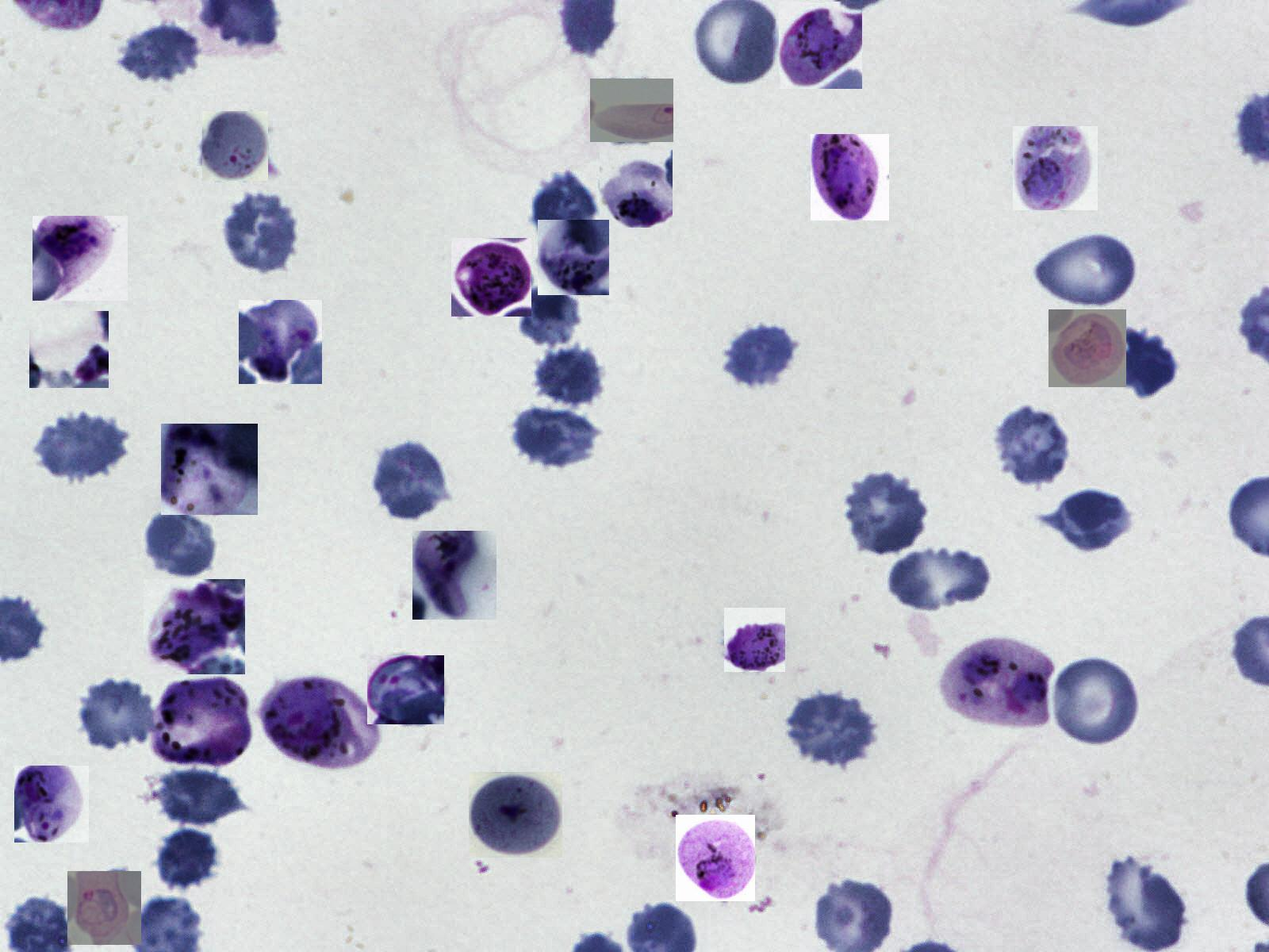Infected: (258, 676, 380, 770), (944, 634, 1054, 728), (144, 579, 245, 674), (151, 674, 254, 766), (161, 424, 258, 515), (33, 216, 128, 301), (469, 772, 562, 858), (412, 531, 496, 620), (779, 2, 862, 89), (1013, 126, 1098, 210), (239, 300, 322, 384), (677, 815, 756, 901), (811, 134, 889, 221), (451, 238, 531, 317), (29, 311, 109, 388), (1049, 310, 1126, 388), (14, 766, 89, 843), (600, 150, 673, 228), (67, 871, 141, 945), (538, 220, 609, 295), (367, 655, 444, 724), (590, 79, 673, 142), (202, 111, 268, 181), (724, 608, 785, 672)
Uninfected: (1032, 228, 1141, 310), (1049, 653, 1142, 749), (780, 688, 880, 769), (842, 470, 930, 556), (219, 188, 301, 277), (36, 406, 129, 482), (148, 764, 251, 830), (887, 547, 989, 611), (508, 401, 602, 470), (77, 673, 158, 753), (993, 406, 1072, 487), (372, 440, 450, 521), (528, 340, 607, 413), (117, 20, 204, 86), (1049, 487, 1132, 555), (144, 509, 219, 582), (723, 318, 800, 389), (532, 171, 596, 249), (151, 823, 223, 892), (1118, 321, 1179, 397), (517, 285, 583, 350)
